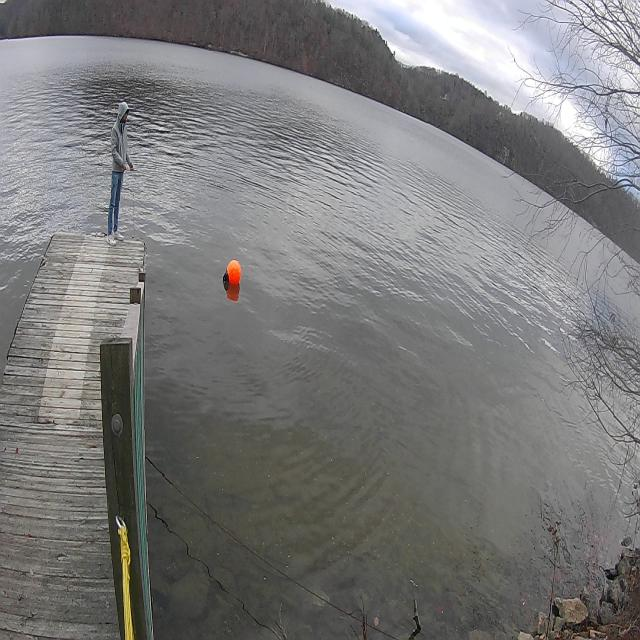Buoy: (223, 255, 243, 293)
